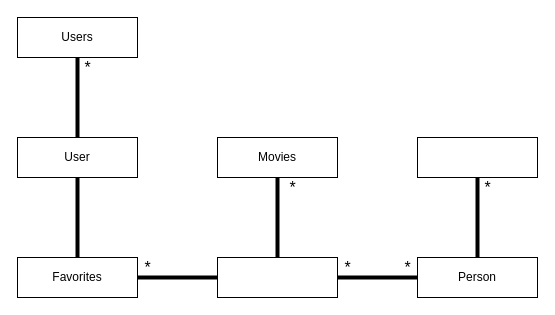
Some shapes in this 555 by 315 pixel diagram are drawn without their labels. The centre of each missing label's shape, as x and y in pixels:
Movie: the point at 277,277
People: the point at 477,157
